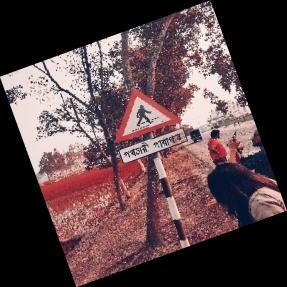Pedestrian-crossing: (113, 88, 186, 164)
